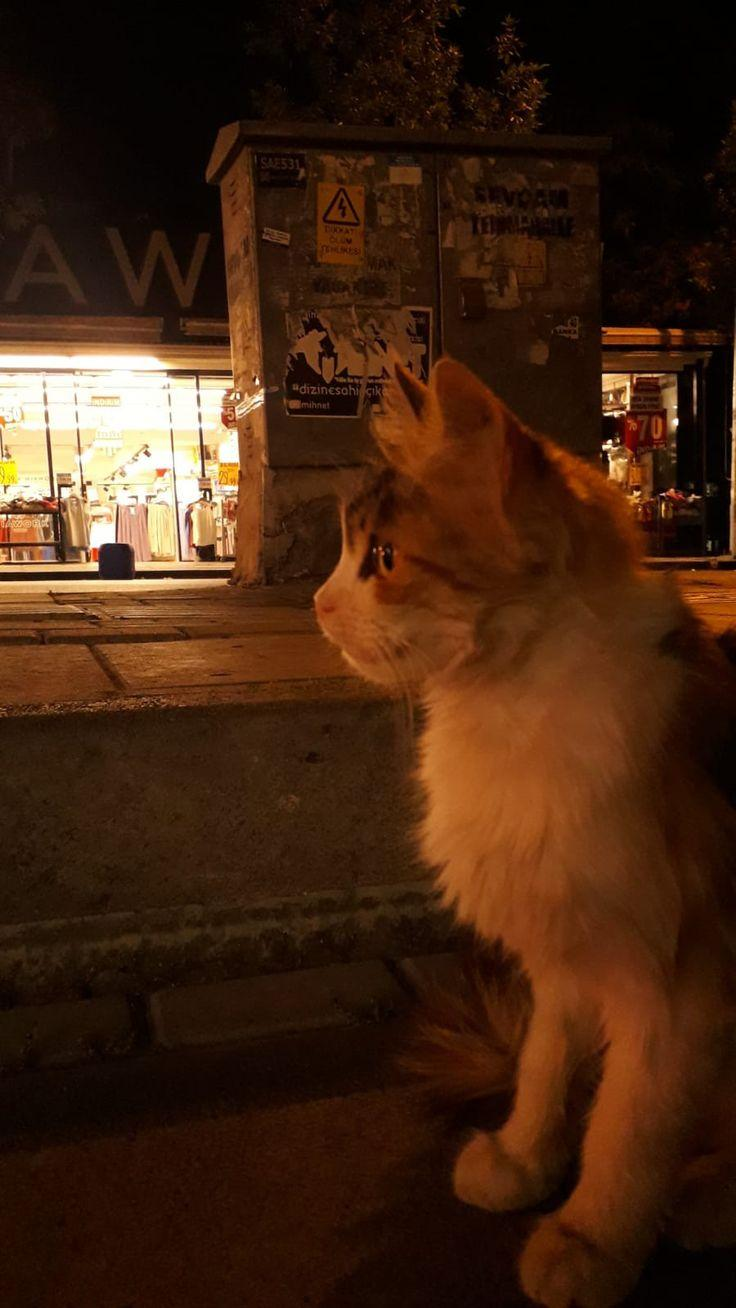kedo: (317, 348, 736, 1308)
